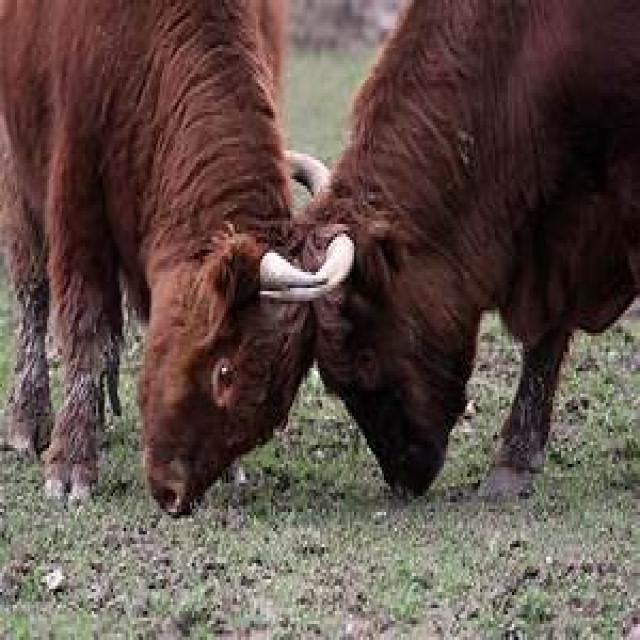cow: (292, 0, 640, 502)
